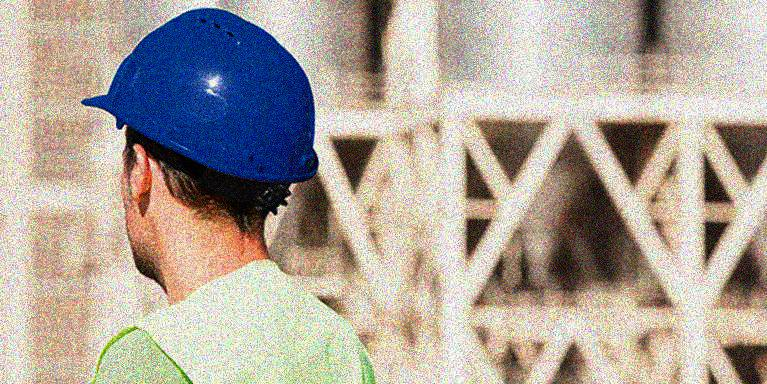helmet: (83, 6, 322, 279)
